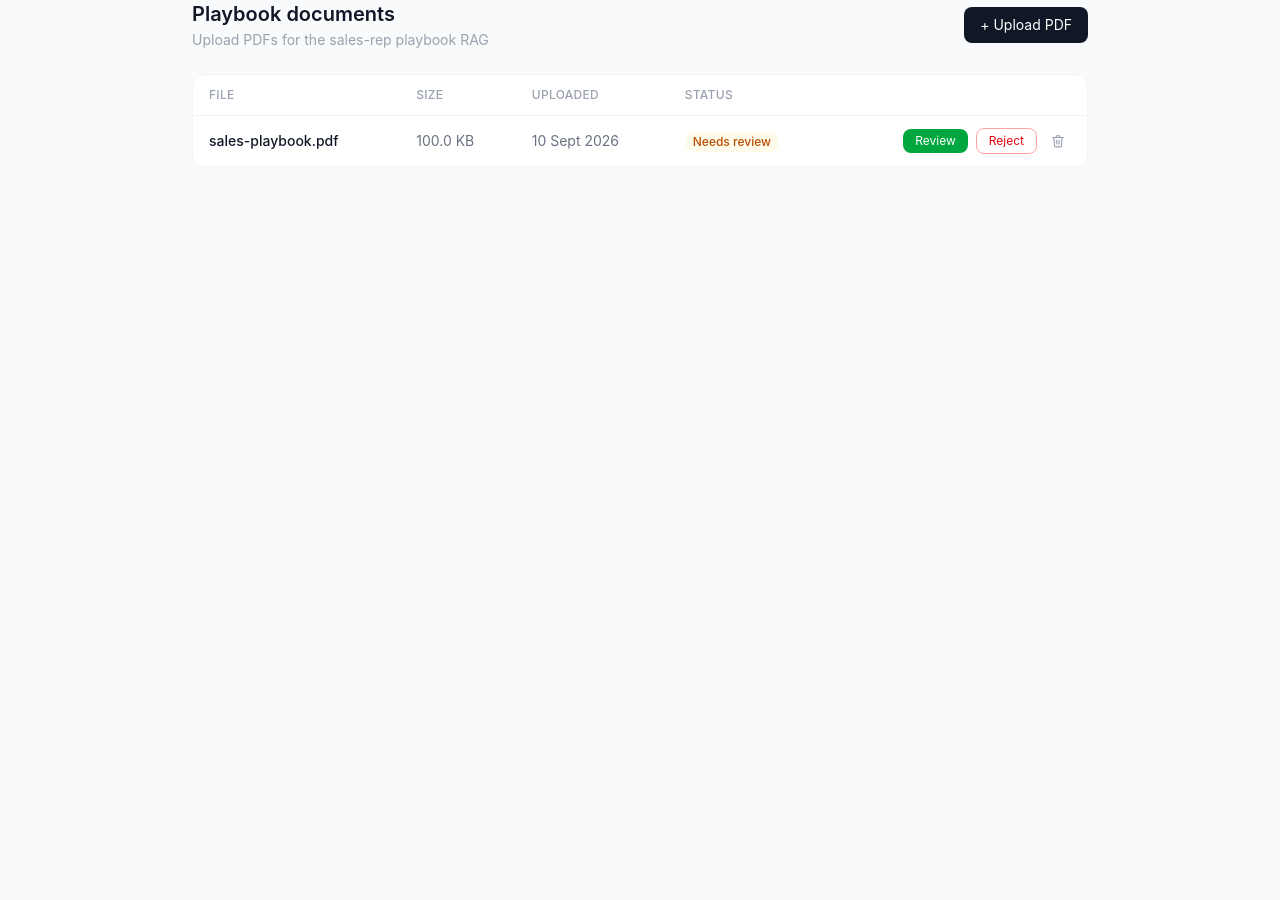
it: DocumentsPage › delete mutation error is swallowed gracefully
Click the button named "delete document" at [1058, 141], box left=1045, top=128, right=1071, bottom=154
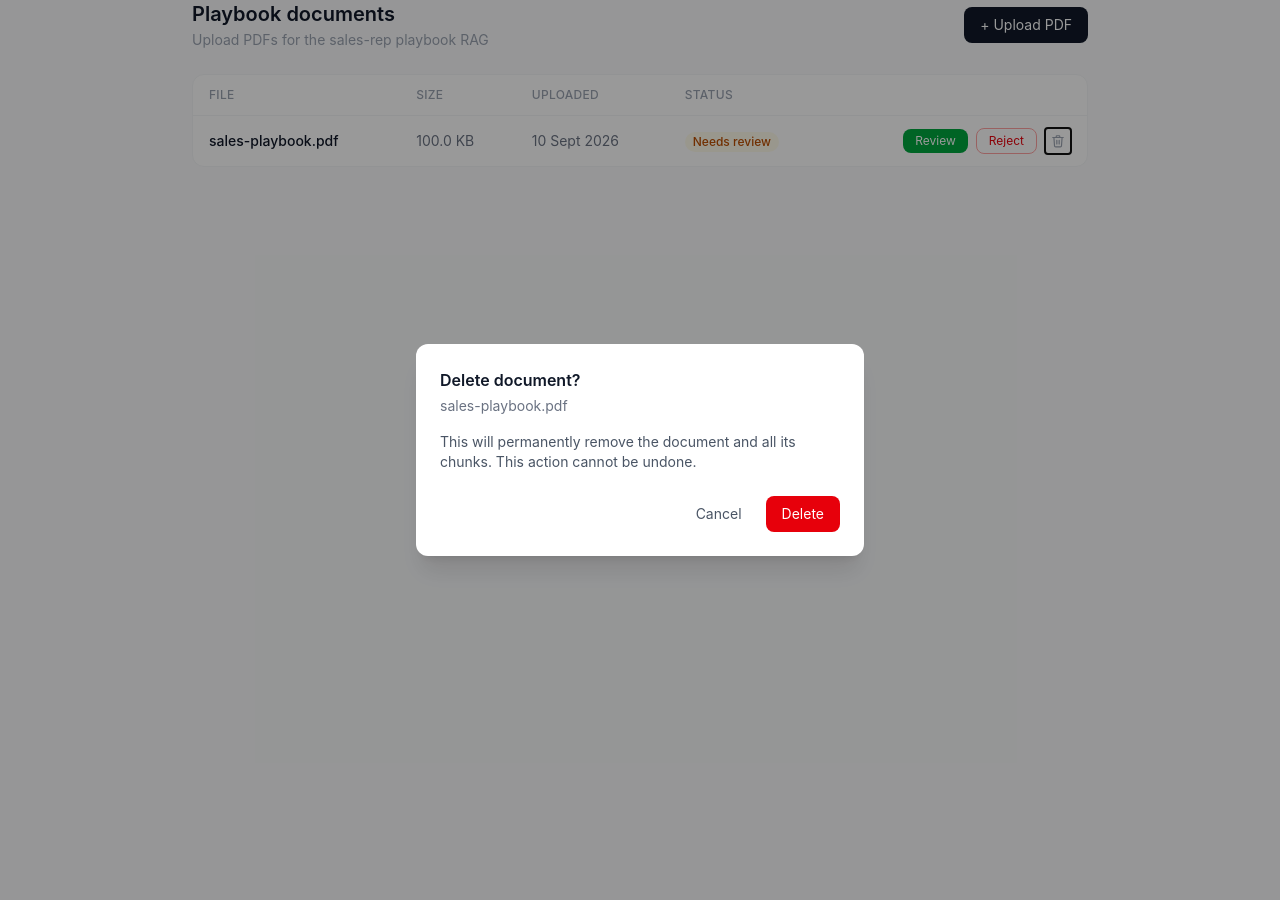
Click the button "Delete" at [803, 514], box left=766, top=496, right=840, bottom=532
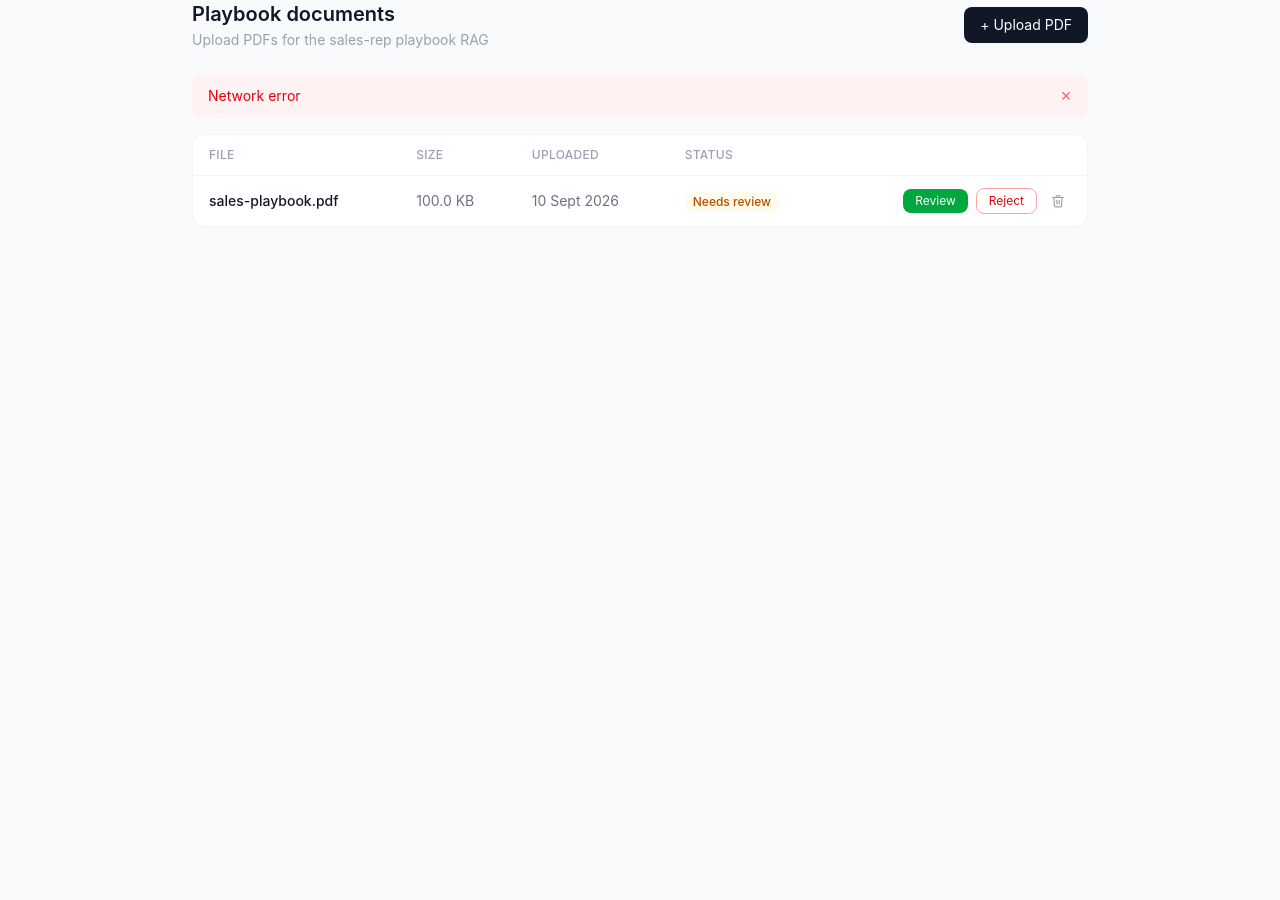
expect the heading "Delete document?" is gone: met
